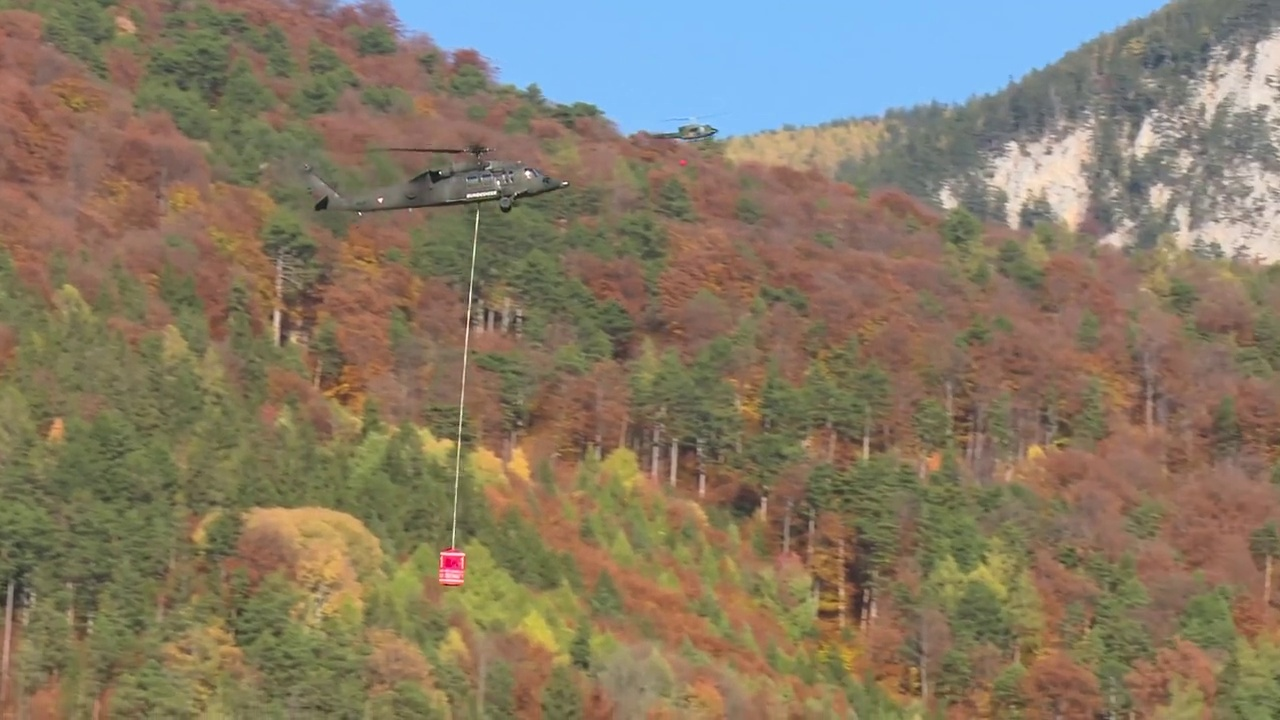heli: (303, 141, 570, 216), (647, 114, 719, 141)
